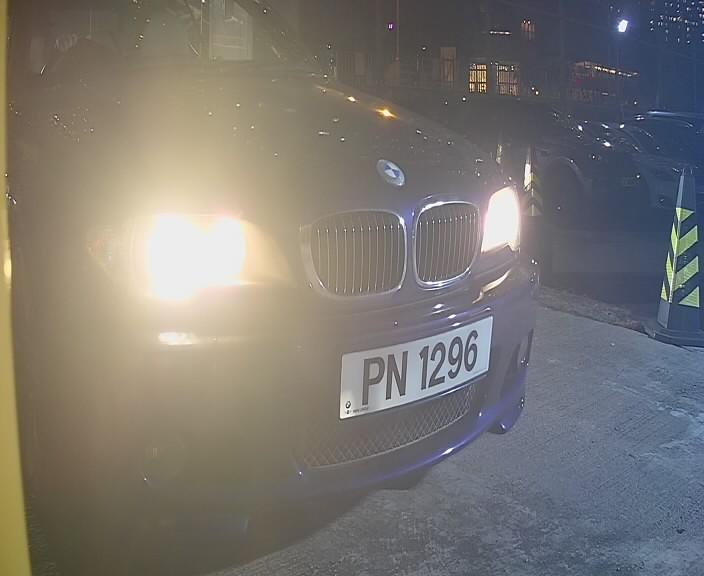Car: (1, 19, 626, 515)
License Plate: (346, 312, 497, 420)
